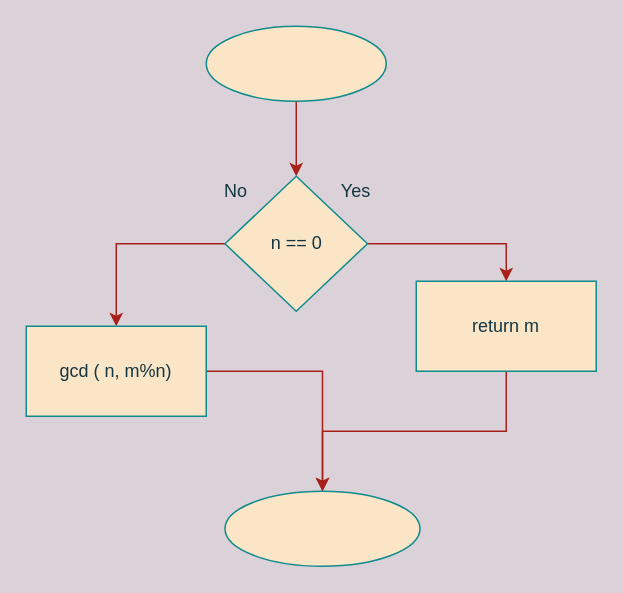
The diagram is 623 pixels wide and 593 high, and some of its shapes have lost their labels. The shapes that lost their labels are listed below. From the top down, each one's box as (x1, y1, x2, y2) in pixels, then its label:
(205, 25, 386, 101): gcd ( m, n )
(224, 490, 420, 566): End
